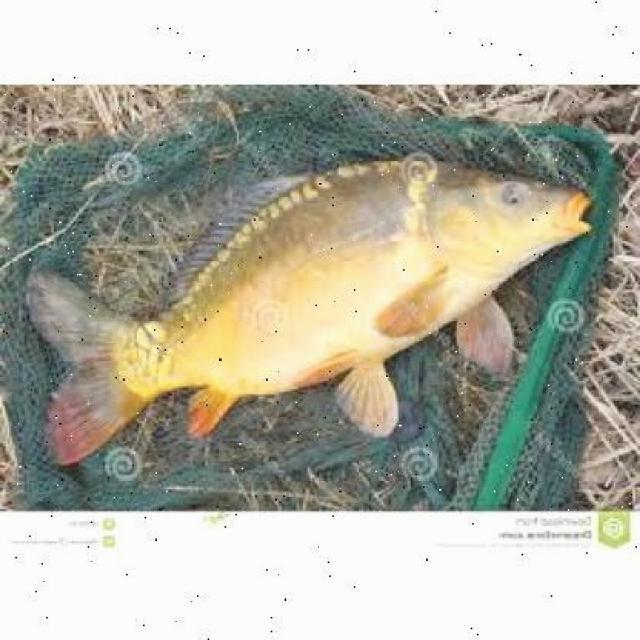ikan-mas: (33, 156, 595, 459)
